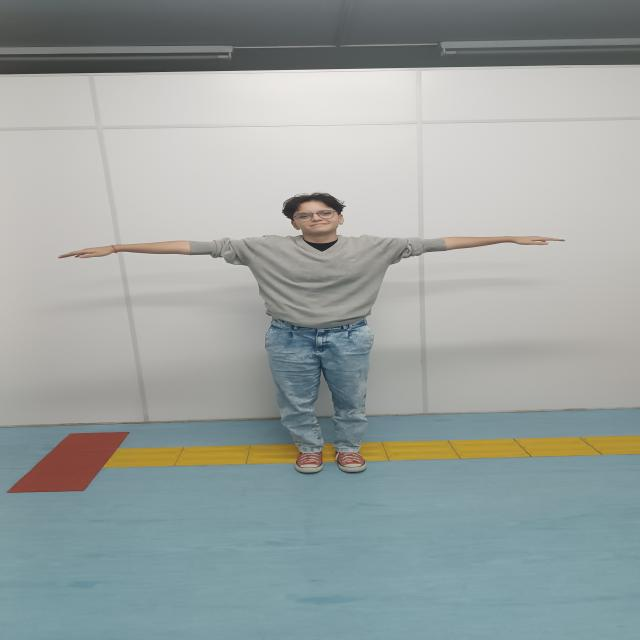takeoff: (58, 192, 563, 472)
